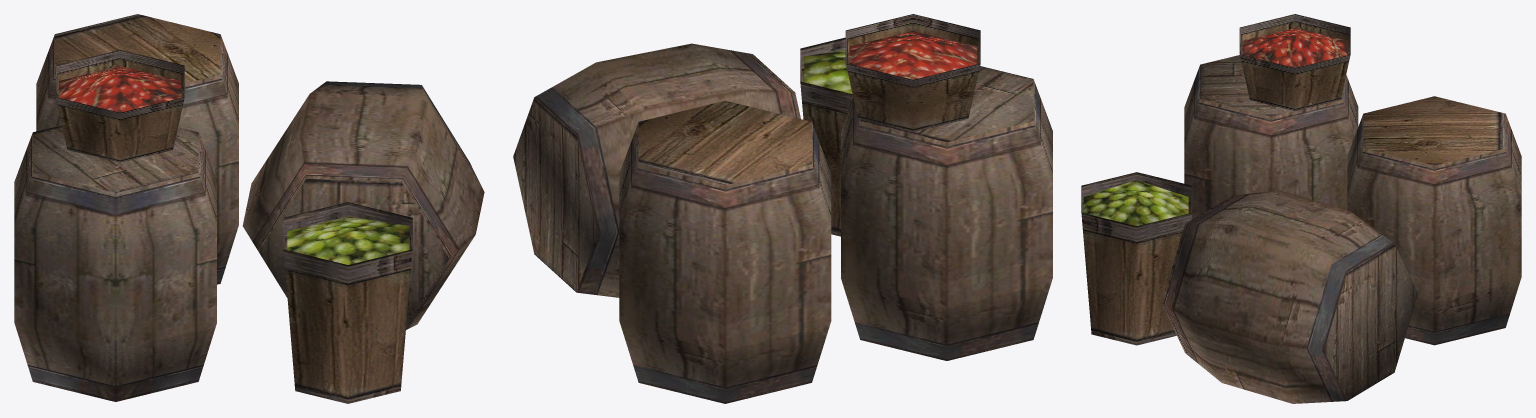
The model's file is w_etc01.glb.
The picture shows the model from 3 angles, left to right: view 1: azimuth 30°, elevation 25°; view 2: azimuth 150°, elevation 25°; view 3: azimuth 270°, elevation 25°; orthographic projection. The views are drawn at different scales.
Visible parts, largest first — view 1: w_etc01; view 2: w_etc01; view 3: w_etc01.
Boxes of the visible parts, left/top/right/bottom form: w_etc01: left=14, top=14, right=484, bottom=403; w_etc01: left=513, top=14, right=1052, bottom=403; w_etc01: left=1081, top=14, right=1521, bottom=403.
Size of the model in its own units: 2.18 by 1.2 by 1.99.
3 materials, 3 textured.
